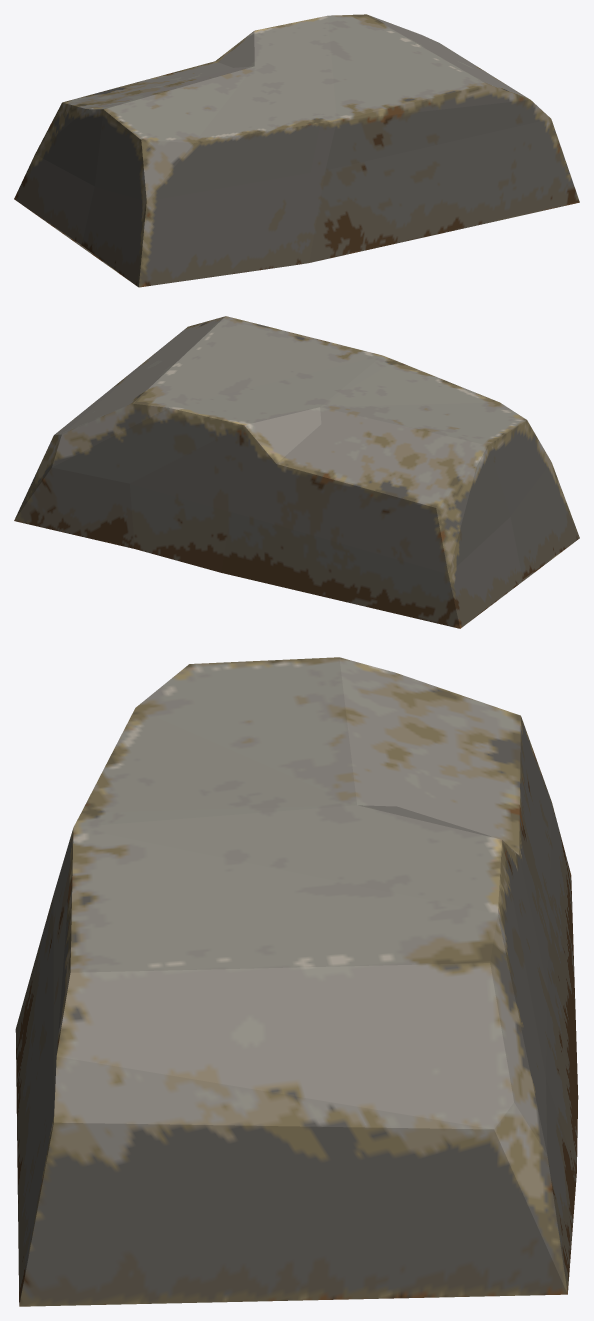
The model's file is Pebble_Square_6__go_coast.glb.
3 renders of one model, top to bottom at view 1: azimuth 30°, elevation 25°; view 2: azimuth 150°, elevation 25°; view 3: azimuth 270°, elevation 25°, orthographic. The views are drawn at different scales.
Visible parts, largest first — view 1: Pebble_Square_6; view 2: Pebble_Square_6; view 3: Pebble_Square_6.
Boxes of the visible parts, box(x1,y1,x2,y2) form: Pebble_Square_6: box(14, 14, 579, 287); Pebble_Square_6: box(14, 316, 579, 628); Pebble_Square_6: box(15, 657, 578, 1306).
Size of the model in its own units: 0.462 by 0.1378 by 0.2629.
1 material, 1 textured.
